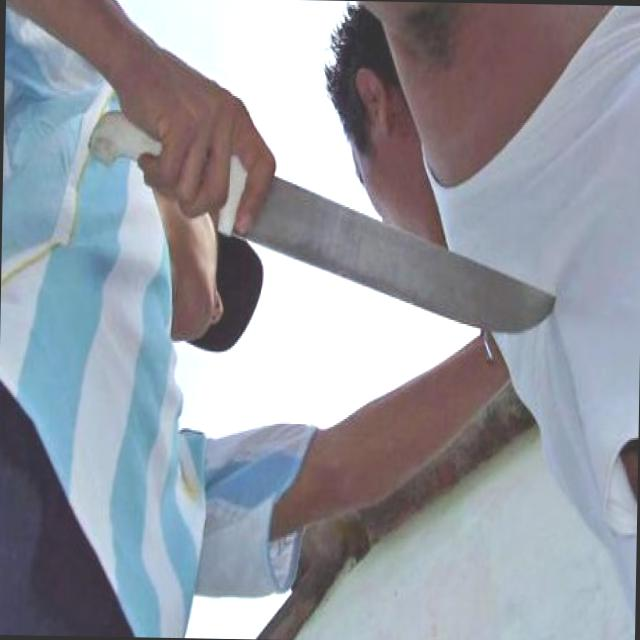knife: (74, 93, 569, 340)
